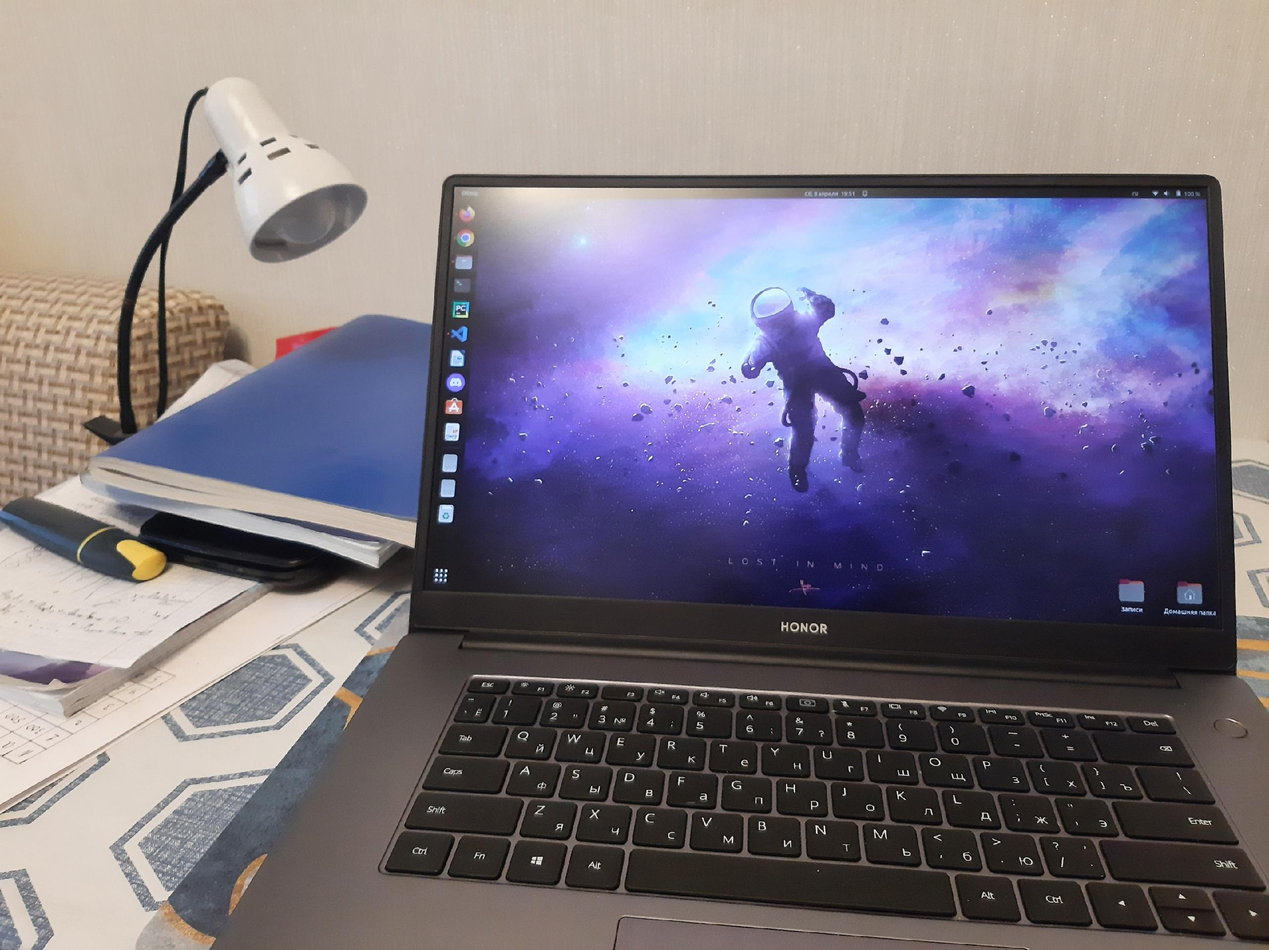monitor: (405, 169, 1238, 685)
